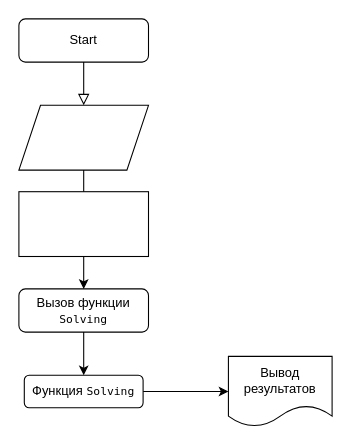
Image size: 351x446. Some labels were removed from this diagram. Each missing label, with the centre of its shape:
Определение трех массивов: the point at 83,223
Установка максимальной длины: the point at 83,137
